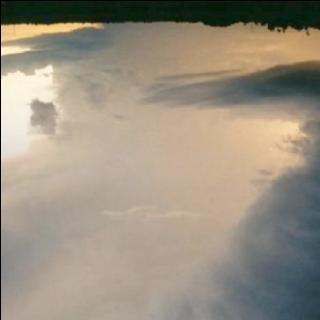Cumulonimbus: (0, 22, 320, 320)
